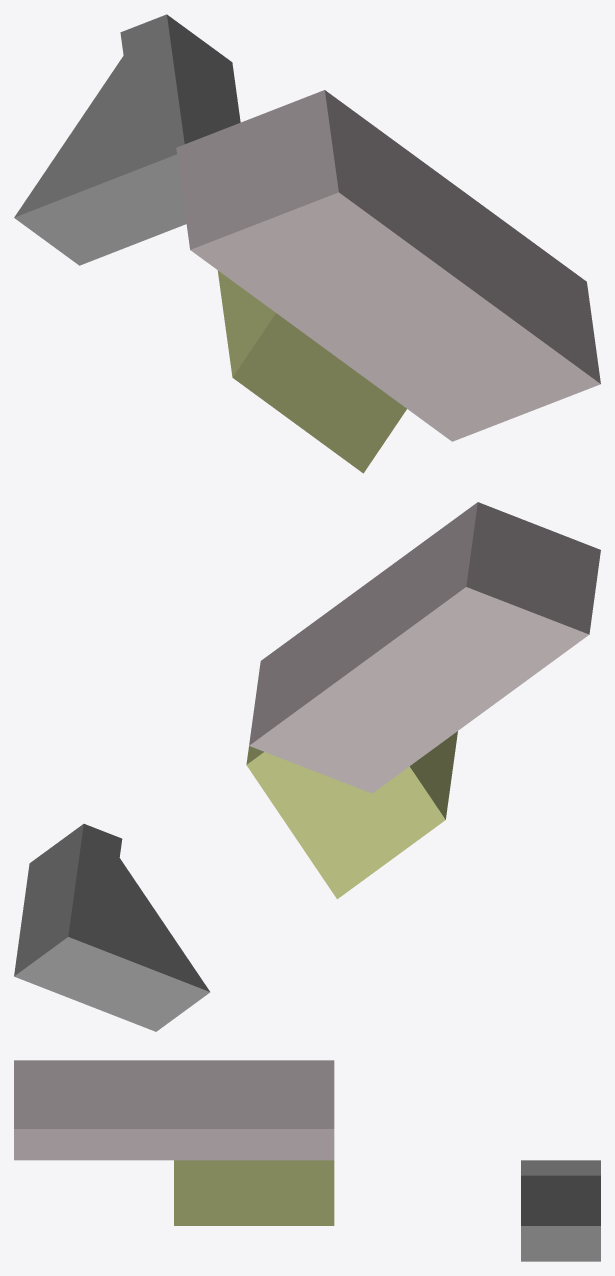
The picture shows the model from 3 angles, top to bottom: view 1: azimuth 30°, elevation 25°; view 2: azimuth 150°, elevation 25°; view 3: azimuth 270°, elevation 25°; orthographic projection. The views are drawn at different scales.
Visible parts, largest first — view 1: 0_1_3_2_1_1_2_0_1_1_0; view 2: 0_1_3_2_1_1_2_0_1_1_0; view 3: 0_1_3_2_1_1_2_0_1_1_0.
Part boxes in pixels (bbox=[...]): 0_1_3_2_1_1_2_0_1_1_0: bbox=[14, 14, 600, 473]; 0_1_3_2_1_1_2_0_1_1_0: bbox=[14, 502, 600, 1031]; 0_1_3_2_1_1_2_0_1_1_0: bbox=[14, 1060, 600, 1261].
Bounding box in the file's own units: 6.02 × 6.7 × 22.
